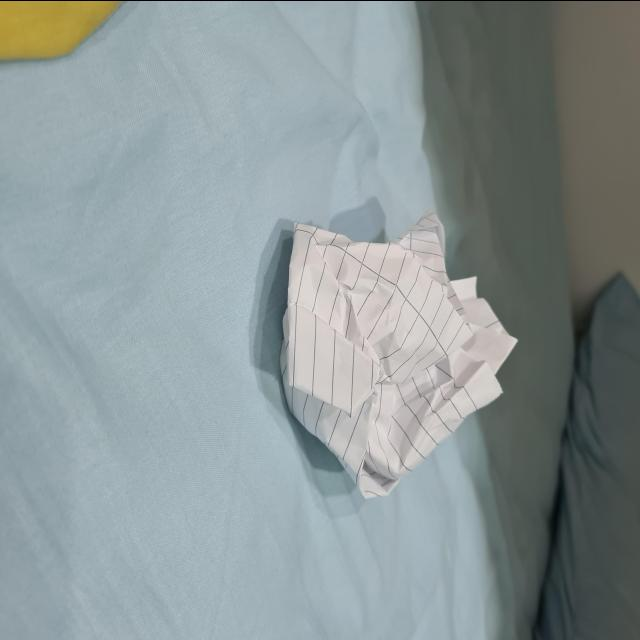kertas: (280, 208, 510, 490)
